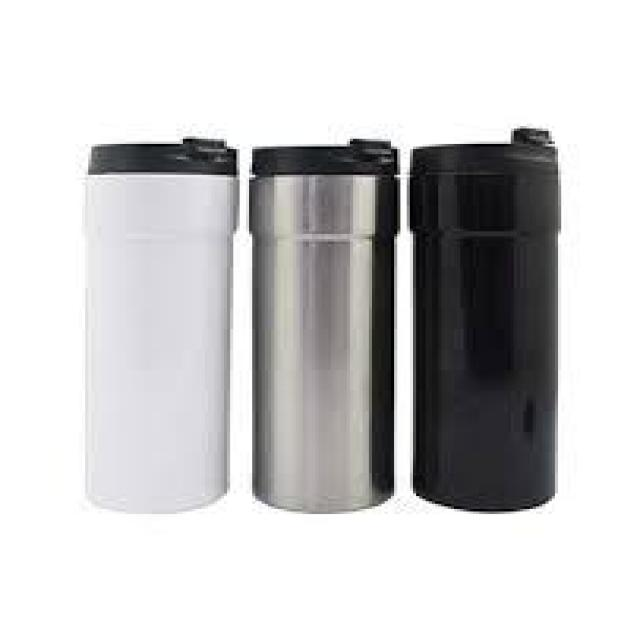bottle: (408, 121, 585, 522), (74, 131, 235, 519), (247, 134, 399, 516)
